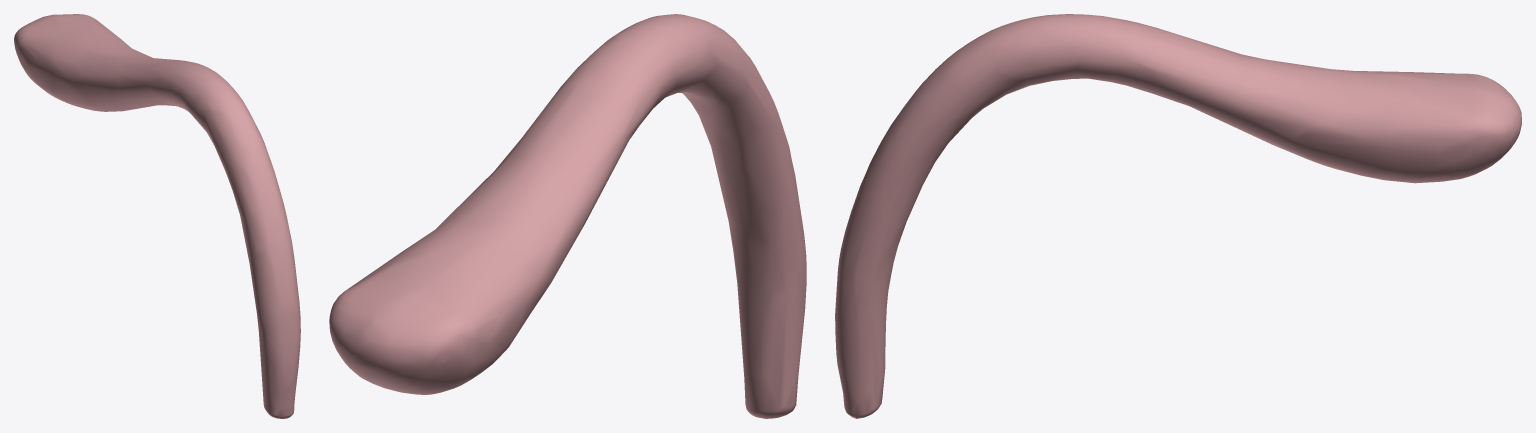
The model's file is fma19617nsn.glb.
The picture shows the model from 3 angles, left to right: view 1: azimuth 30°, elevation 25°; view 2: azimuth 150°, elevation 25°; view 3: azimuth 270°, elevation 25°; orthographic projection. The views are drawn at different scales.
Parts seen in each view (by area): view 1: FMA19617nsn; view 2: FMA19617nsn; view 3: FMA19617nsn.
Boxes of the visible parts, x1,y1,x2,y2 form: FMA19617nsn: [14, 14, 300, 418]; FMA19617nsn: [329, 14, 806, 418]; FMA19617nsn: [835, 14, 1521, 418].
Size of the model in its own units: 0.0217 by 0.0715 by 0.1124.
